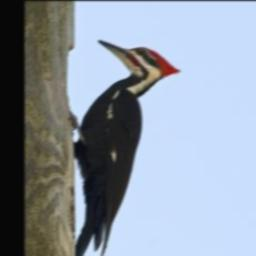Woodpecker: (71, 37, 184, 256)
